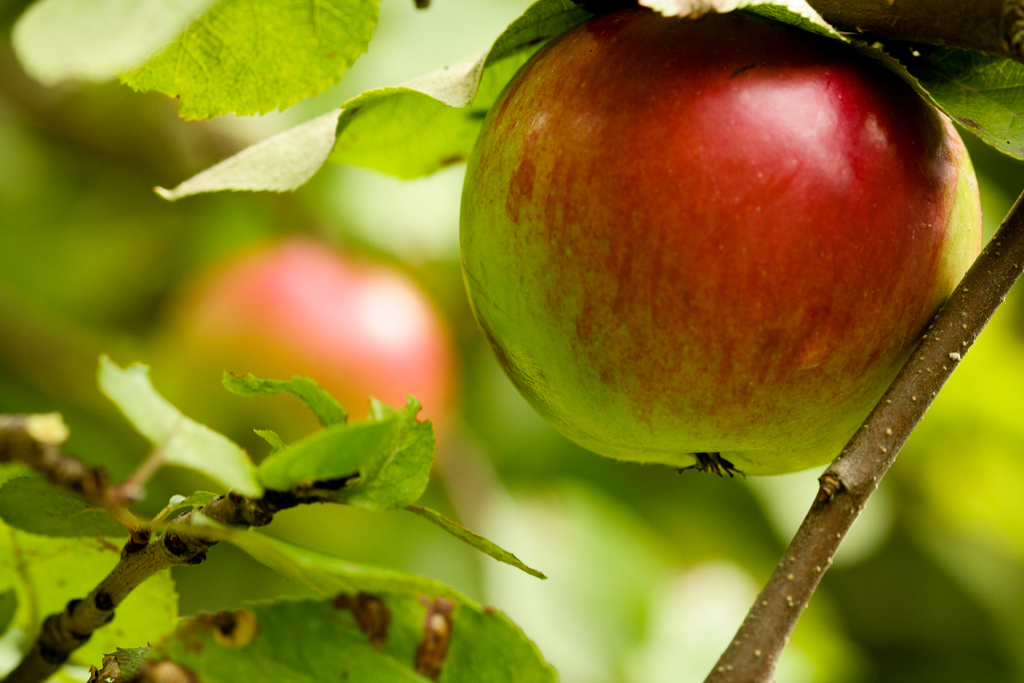Apple: (476, 22, 1013, 502)
